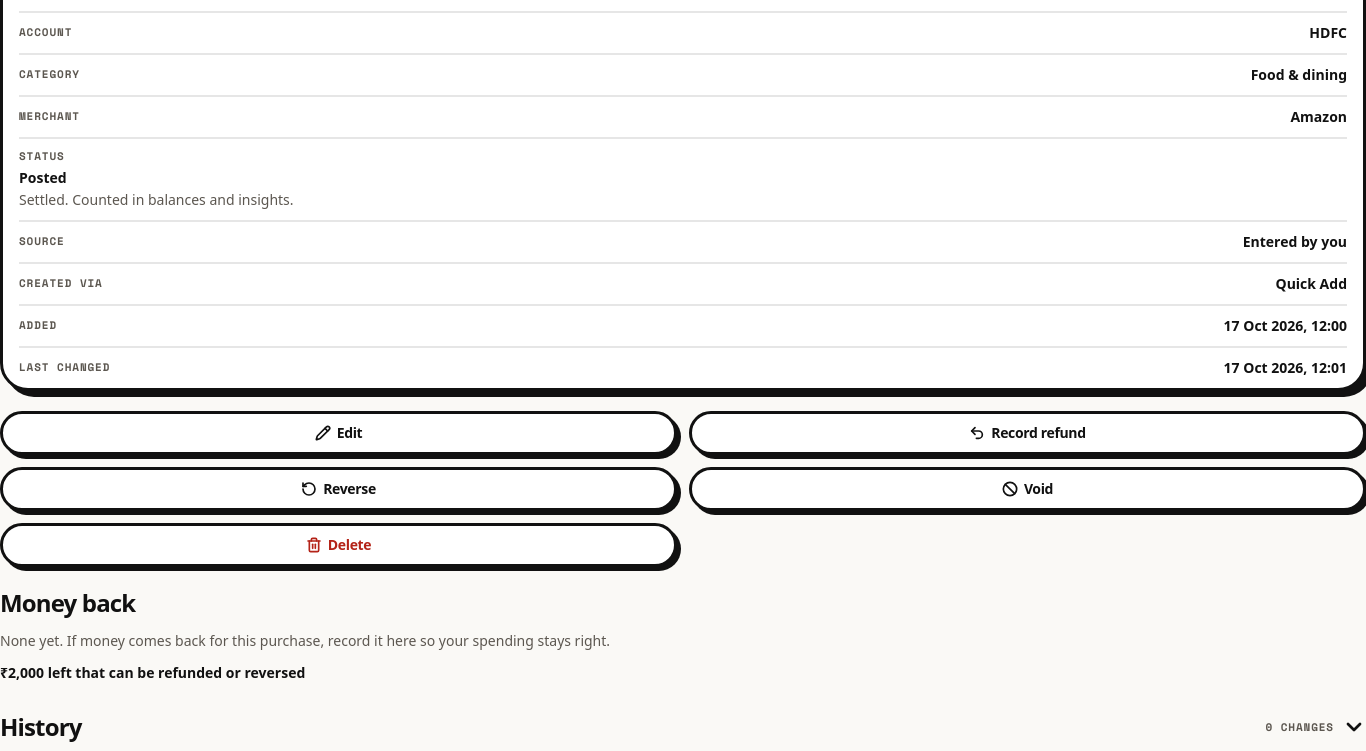
Entry details — actions by state › voids with a reason after explaining void vs delete vs refund
The image size is (1366, 751).
(page scrolled)
Click the button "Void" at (1028, 489), box [689,467,1365,511]
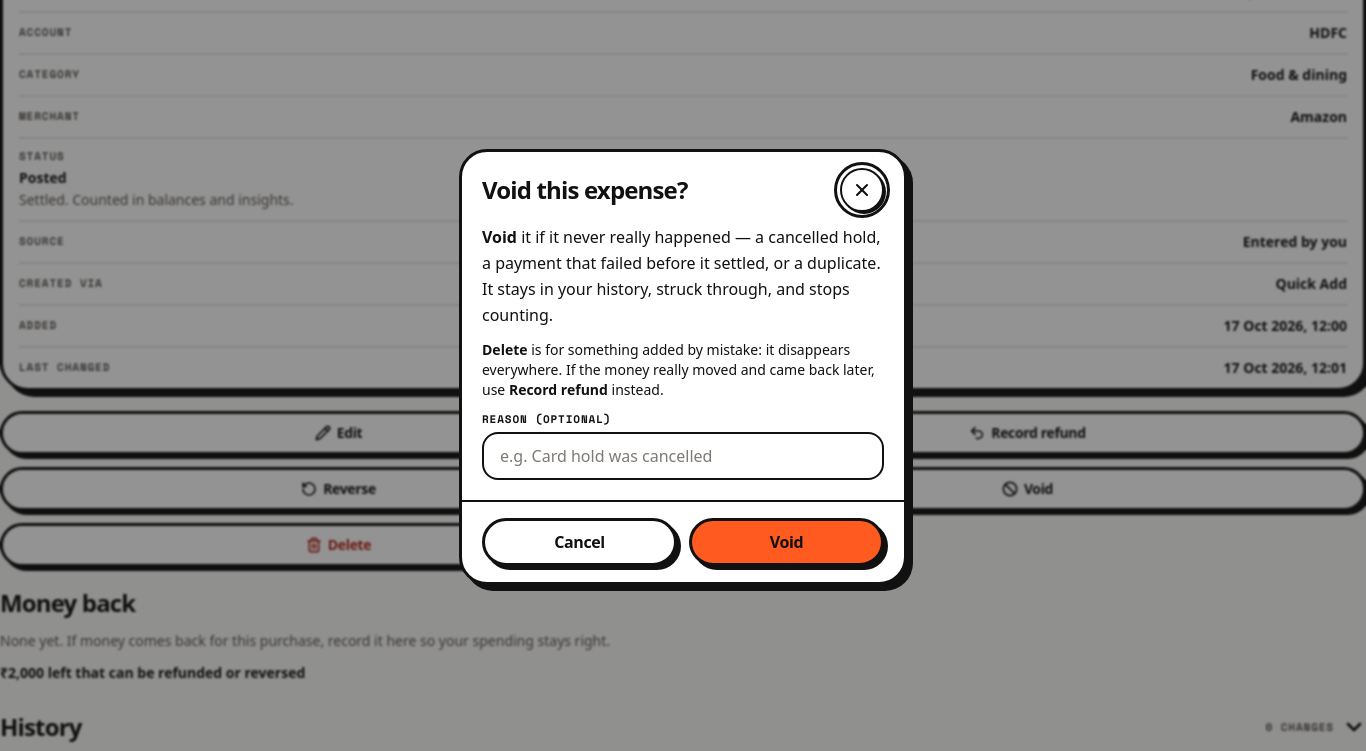
Expected: the dialog "Void this expense?" shows "never really happened", [482,226,881,326]
Expected: the dialog "Void this expense?" shows "Delete is for something added by mistake", [459,149,907,585]
Expected: the dialog "Void this expense?" shows "use Record refund instead", [459,149,907,585]
Type "Card hold cancelled" into the field labelled "Reason (optional)" at (683, 456), box [482,432,884,480]
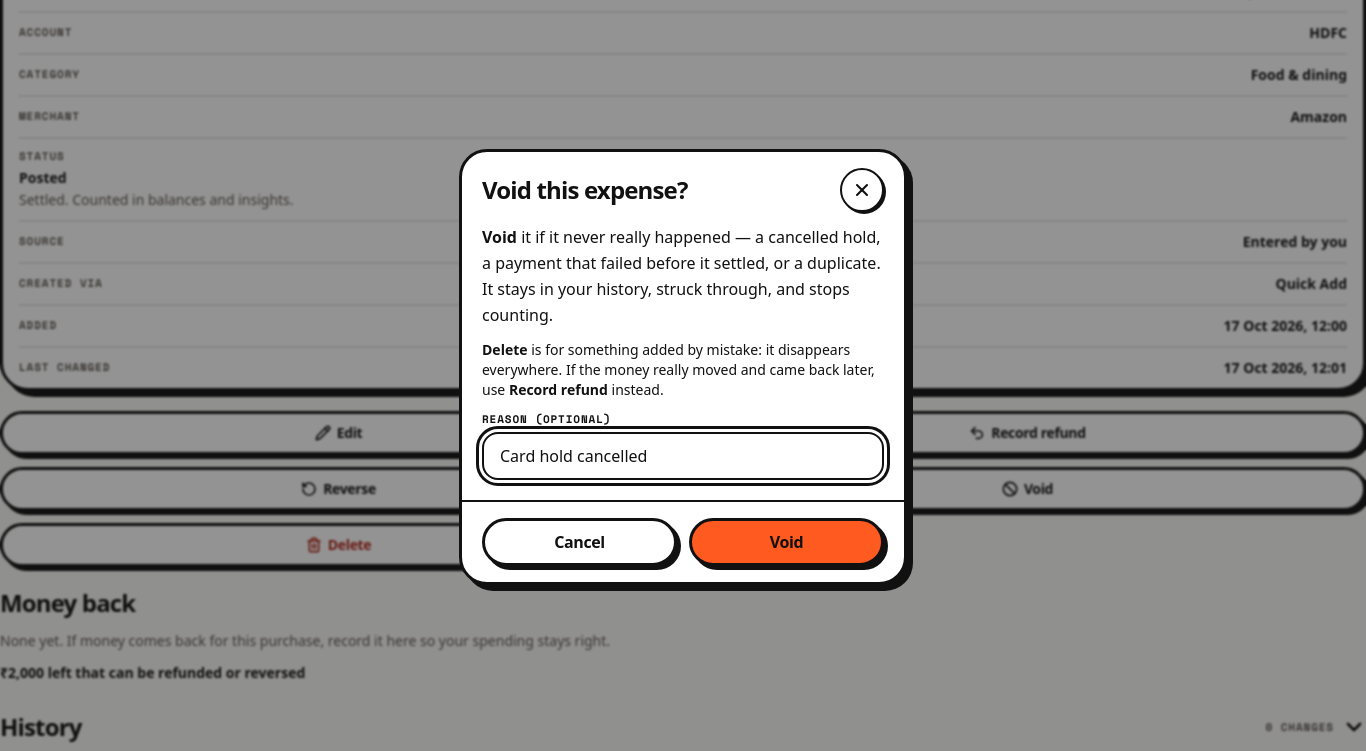
Click the button "Void" at (786, 542), box [689,518,884,566]
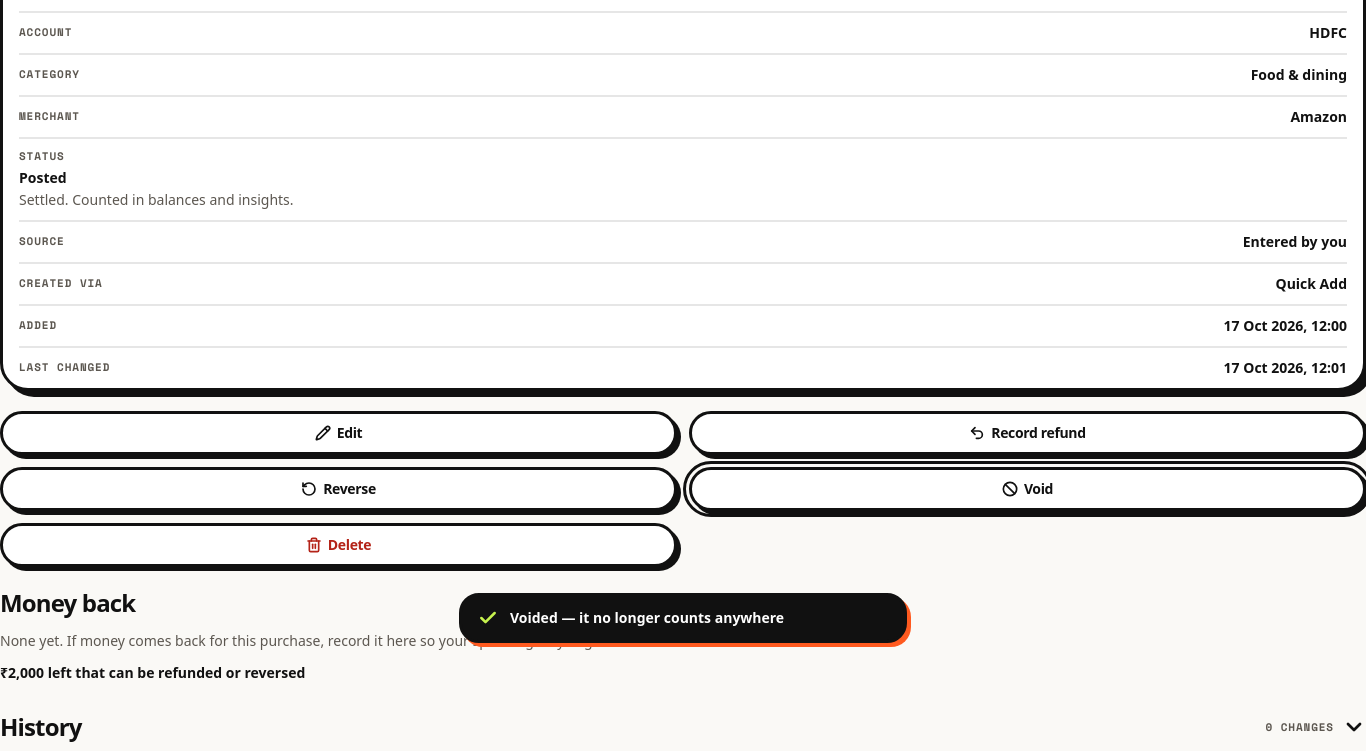
Expected: the text "Voided — it no longer counts anywhere" is shown, [510,608,784,627]
